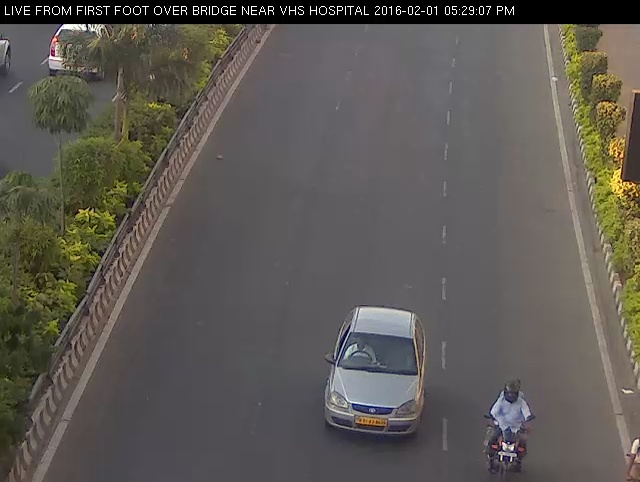Car: (311, 298, 439, 449)
Person: (480, 370, 542, 482)
